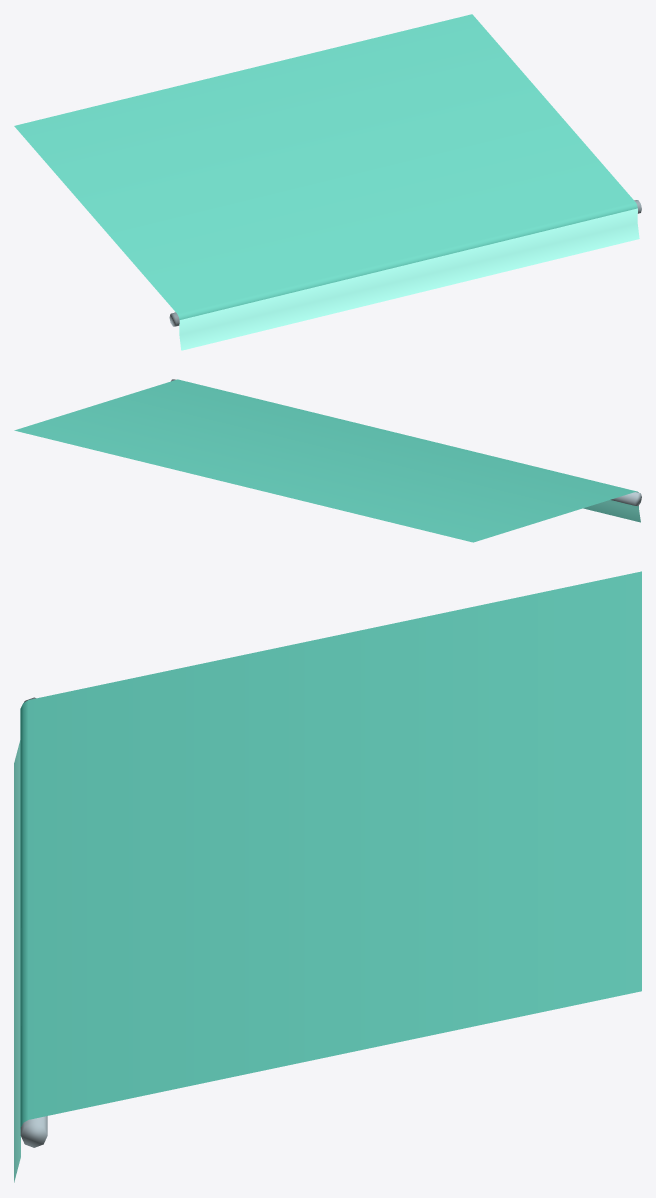
Rendered from markise_short.glb.
3 renders of one model, top to bottom at view 1: azimuth 30°, elevation 25°; view 2: azimuth 150°, elevation 25°; view 3: azimuth 270°, elevation 25°, orthographic. The views are drawn at different scales.
Visible parts, largest first — view 1: markise_short; view 2: markise_short; view 3: markise_short.
Part boxes in pixels (left/top/right/bottom): markise_short: left=14, top=14, right=641, bottom=350; markise_short: left=14, top=379, right=641, bottom=542; markise_short: left=14, top=571, right=641, bottom=1182.
Bounding box in the file's own units: 2.55 × 0.5375 × 1.59.
